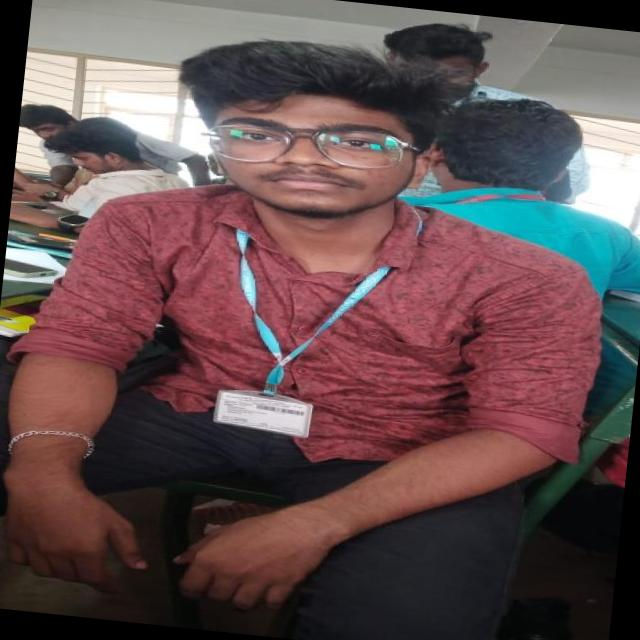id_card: (207, 191, 382, 443)
